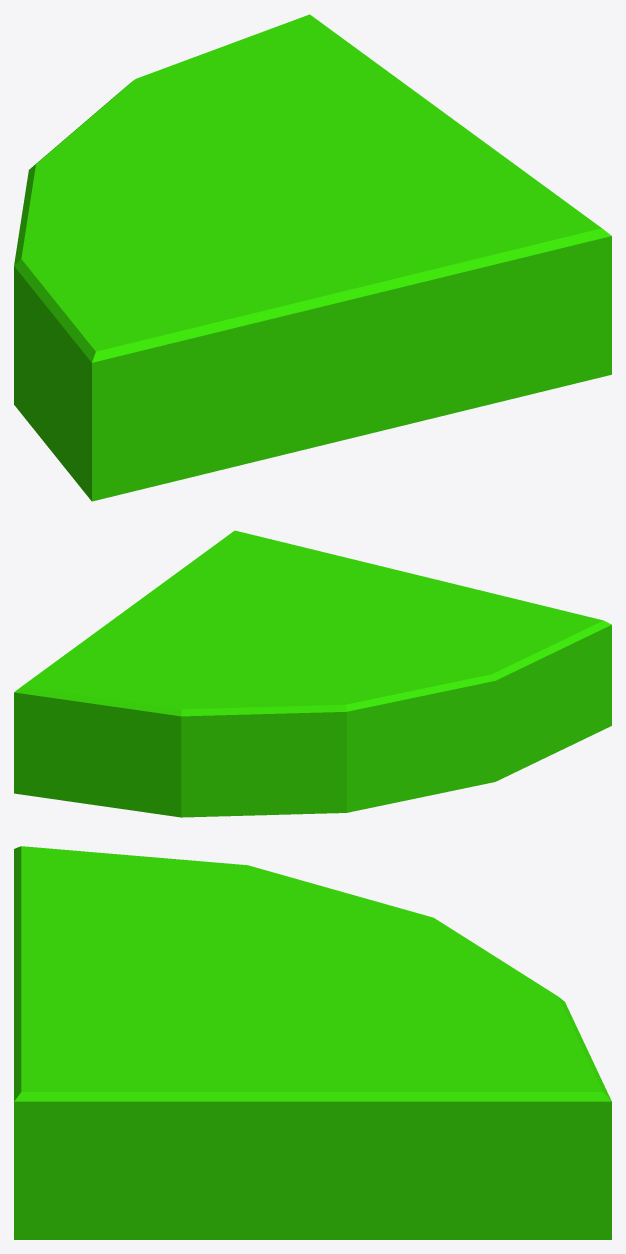
Rendered from round_4x1_02.fbx.
3 renders of one model, top to bottom at view 1: azimuth 30°, elevation 25°; view 2: azimuth 150°, elevation 25°; view 3: azimuth 270°, elevation 25°, orthographic. The views are drawn at different scales.
Parts seen in each view (by area): view 1: round_4x1_02; view 2: round_4x1_02; view 3: round_4x1_02.
Part boxes in pixels (x1=…): round_4x1_02: x1=14, y1=14, x2=611, y2=501; round_4x1_02: x1=14, y1=530, x2=611, y2=817; round_4x1_02: x1=14, y1=846, x2=611, y2=1239.
Bounding box in the file's own units: 412 × 110 × 412.
